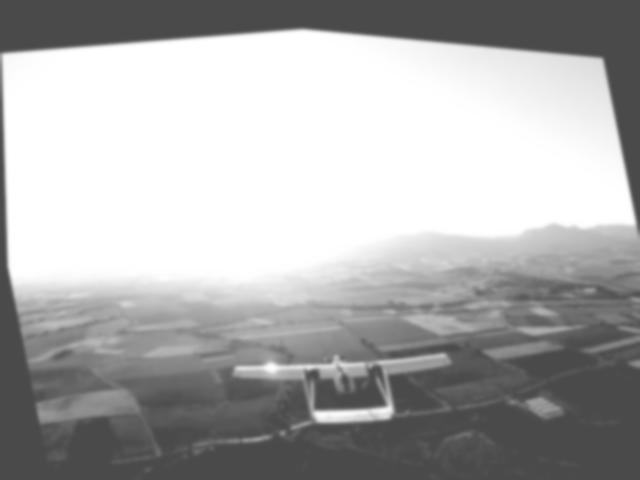hedef: (220, 304, 470, 452)
